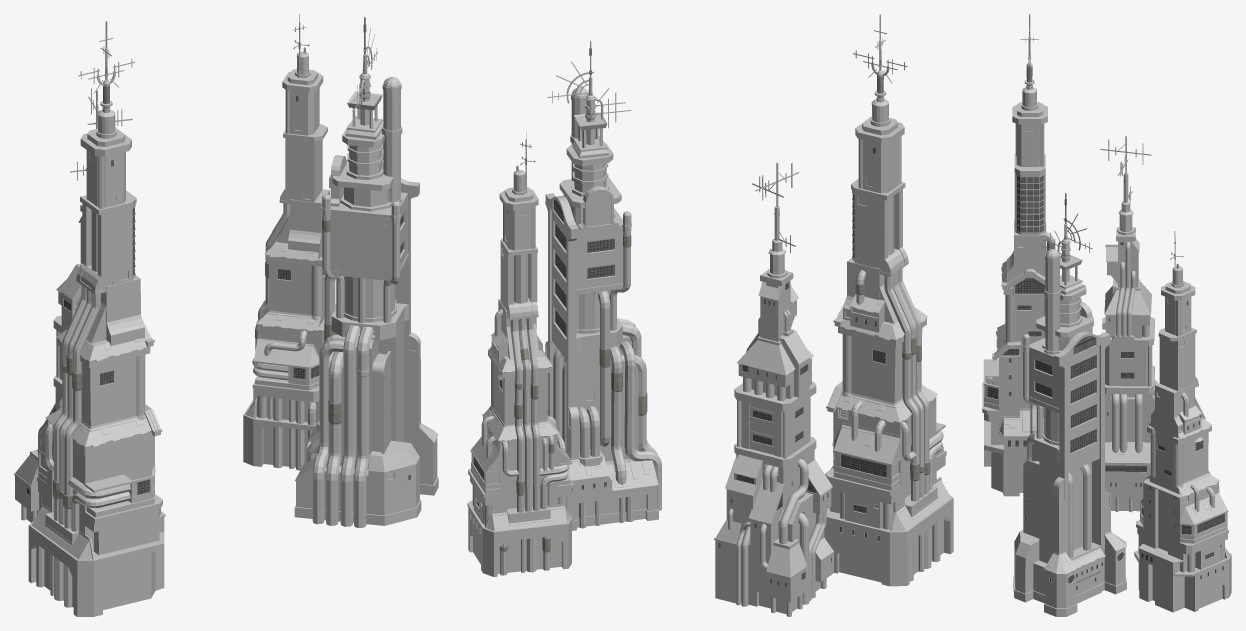
Rendered from CommonBuilding_Ba_Distant.fbx.
3 renders of one model, left to right at view 1: azimuth 30°, elevation 25°; view 2: azimuth 150°, elevation 25°; view 3: azimuth 270°, elevation 25°, orthographic. The views are drawn at different scales.
Visible parts, largest first — view 1: SM_ENV_AMVLLG02_CommonBuilding_Ba_Distant.mo; view 2: SM_ENV_AMVLLG02_CommonBuilding_Ba_Distant.mo; view 3: SM_ENV_AMVLLG02_CommonBuilding_Ba_Distant.mo.
Part boxes in pixels (x1,y1,x2,y2): SM_ENV_AMVLLG02_CommonBuilding_Ba_Distant.mo: [14, 14, 438, 616]; SM_ENV_AMVLLG02_CommonBuilding_Ba_Distant.mo: [467, 14, 953, 616]; SM_ENV_AMVLLG02_CommonBuilding_Ba_Distant.mo: [982, 14, 1231, 616].
Size of the model in its own units: 8826 by 11887 by 5772.
